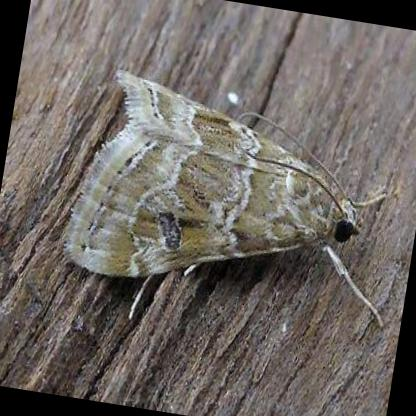Hellula undalis: (60, 65, 390, 333)
